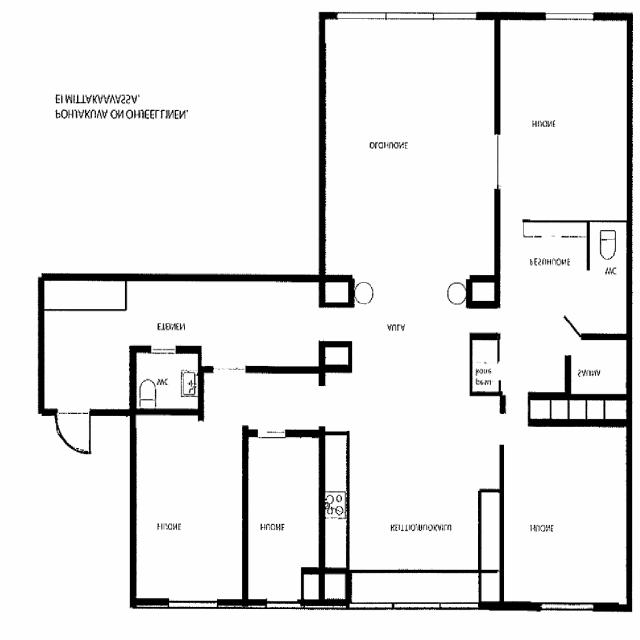door: (56, 408, 90, 456), (554, 324, 580, 354)
